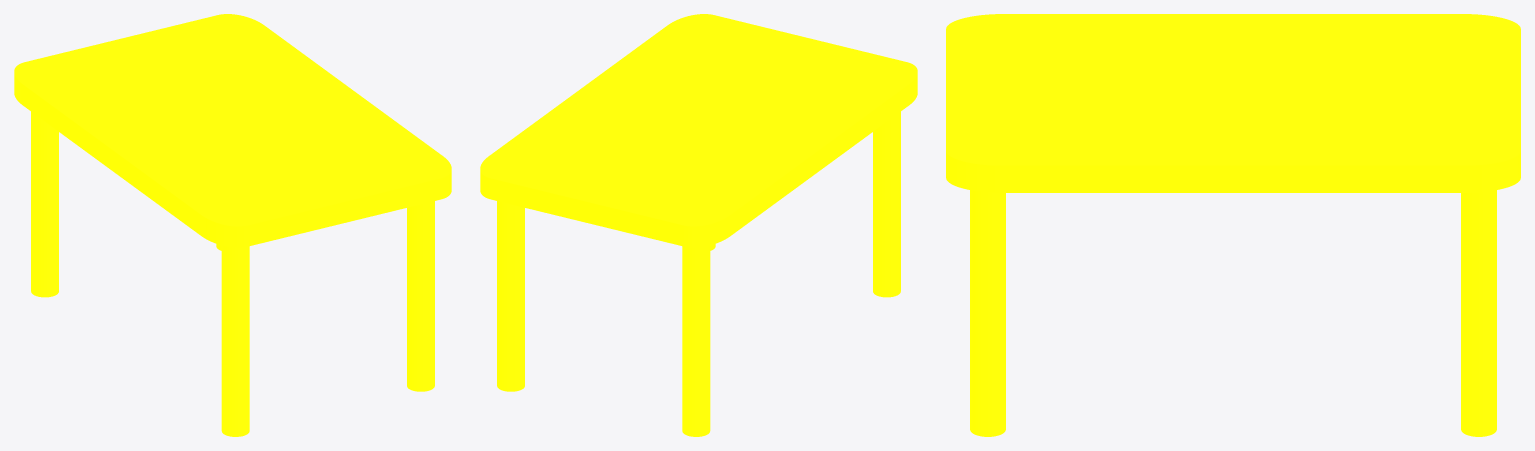
Rendered from yellowtable.fbx.
The picture shows the model from 3 angles, left to right: view 1: azimuth 30°, elevation 25°; view 2: azimuth 150°, elevation 25°; view 3: azimuth 270°, elevation 25°; orthographic projection. The views are drawn at different scales.
Visible parts, largest first — view 1: 立方体, 柱体; view 2: 立方体, 柱体; view 3: 立方体, 柱体.
Part boxes in pixels (x1,y1,x2,y2): 立方体: (14,14,451,247); 柱体: (31,111,434,436); 立方体: (480,14,917,247); 柱体: (497,111,900,436); 立方体: (946,14,1520,192); 柱体: (970,190,1496,436).
Bounding box in the file's own units: 600 × 518 × 960.
